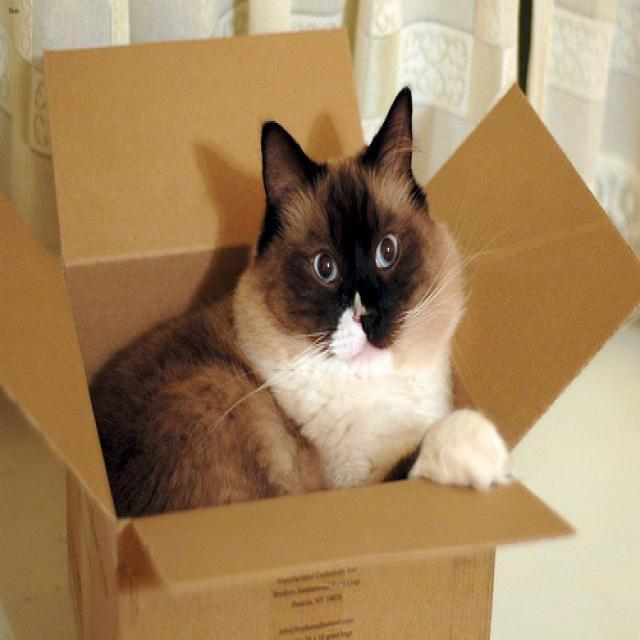Ragdoll: (250, 79, 469, 391)
